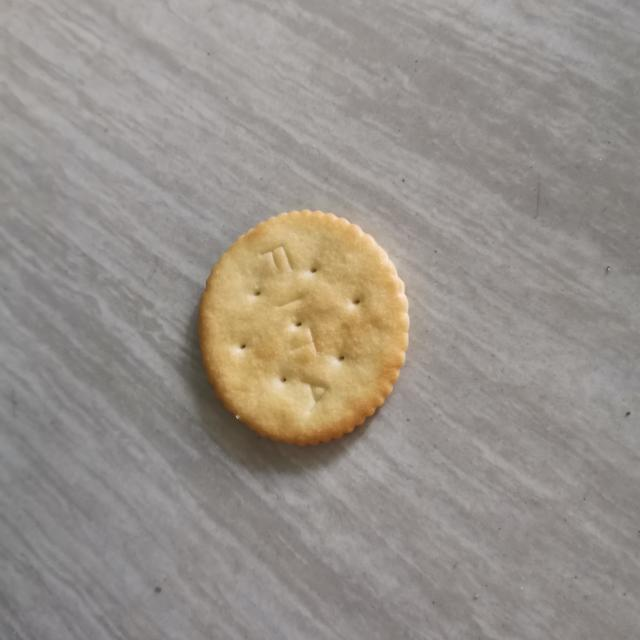Intact: (190, 197, 423, 455)
